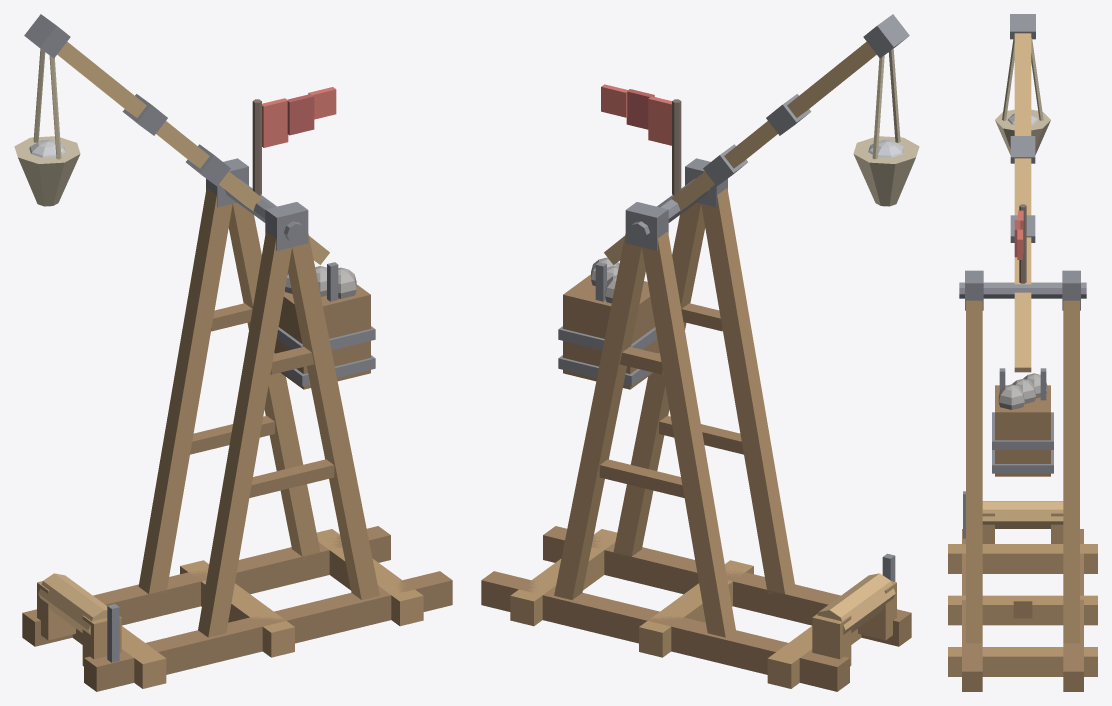
The model's file is ws_siege_trebuchet.glb.
The picture shows the model from 3 angles, left to right: view 1: azimuth 30°, elevation 25°; view 2: azimuth 150°, elevation 25°; view 3: azimuth 270°, elevation 25°; orthographic projection. The views are drawn at different scales.
Visible parts, largest first — view 1: frame, weight, arm, sling; view 2: frame, weight, arm, sling; view 3: frame, arm, weight, sling.
Part boxes in pixels (<box>): frame: <box>22,87,452,691</box>; weight: <box>274,262,375,389</box>; arm: <box>24,14,329,264</box>; sling: <box>14,49,80,206</box>; frame: <box>481,84,911,691</box>; weight: <box>558,257,659,389</box>; arm: <box>604,14,909,264</box>; sling: <box>853,49,919,206</box>; frame: <box>948,204,1097,691</box>; arm: <box>1010,14,1035,372</box>; weight: <box>992,368,1053,476</box>; sling: <box>995,38,1050,154</box>.
Bounding box in the file's own units: 2.01 × 3.13 × 0.8.
